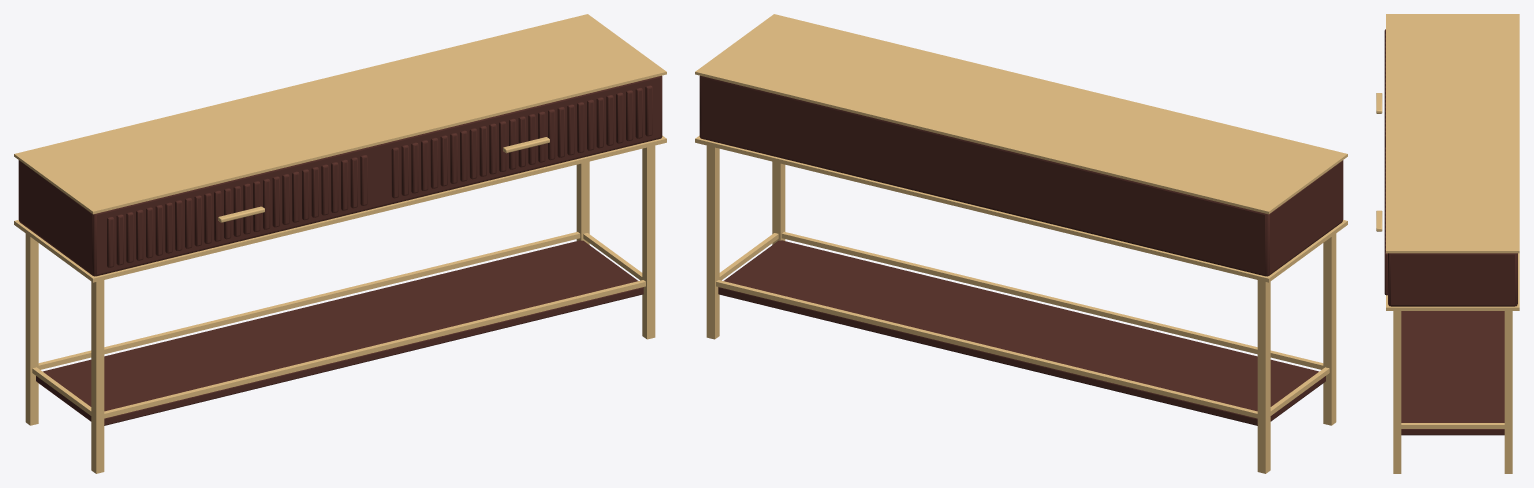
File: JAC_10_Aparador.glb
3 renders of one model, left to right at view 1: azimuth 30°, elevation 25°; view 2: azimuth 150°, elevation 25°; view 3: azimuth 270°, elevation 25°, orthographic. The views are drawn at different scales.
Visible parts, largest first — view 1: JAC_10_Aparador; view 2: JAC_10_Aparador; view 3: JAC_10_Aparador.
Part boxes in pixels (bbox=[...]): JAC_10_Aparador: bbox=[14, 14, 666, 473]; JAC_10_Aparador: bbox=[695, 14, 1347, 473]; JAC_10_Aparador: bbox=[1376, 14, 1519, 473].
Bounding box in the file's own units: 1.81 × 0.806 × 0.464.
